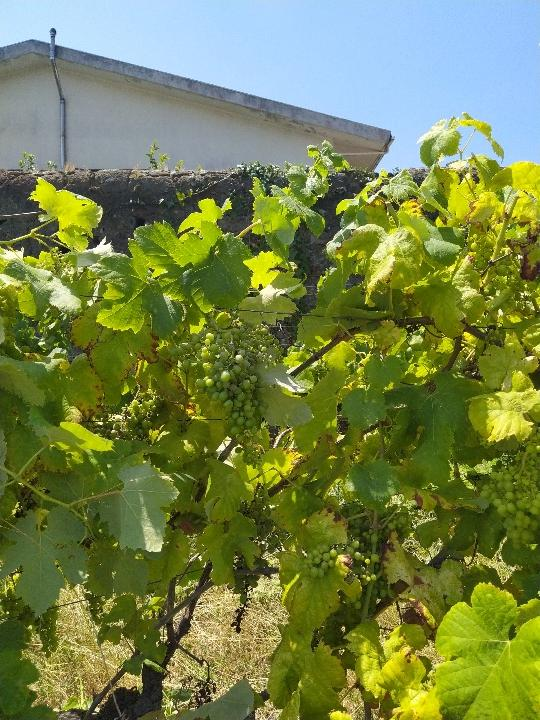grape: (195, 332, 269, 470), (479, 428, 540, 552)
